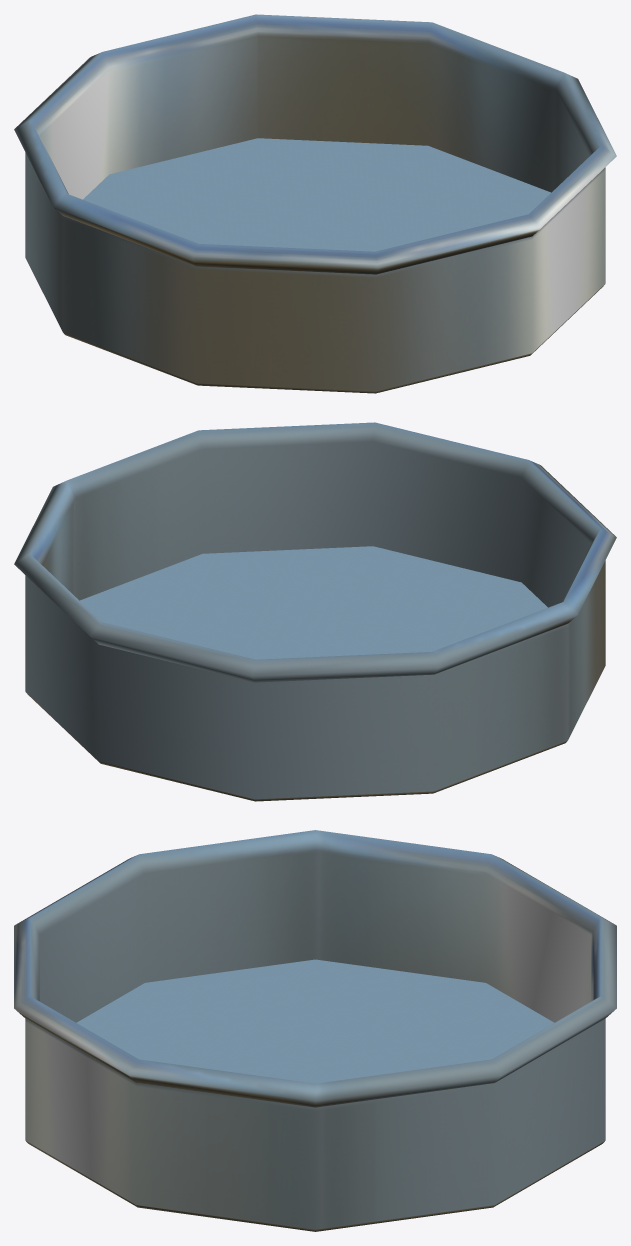
File: Cake_Pan_01.fbx
The picture shows the model from 3 angles, top to bottom: view 1: azimuth 30°, elevation 25°; view 2: azimuth 150°, elevation 25°; view 3: azimuth 270°, elevation 25°; orthographic projection. The views are drawn at different scales.
Visible parts, largest first — view 1: Cake_Pan_02; view 2: Cake_Pan_02; view 3: Cake_Pan_02.
Part boxes in pixels (bbox=[...]): Cake_Pan_02: bbox=[14, 14, 616, 393]; Cake_Pan_02: bbox=[14, 422, 616, 801]; Cake_Pan_02: bbox=[14, 830, 616, 1231].
Size of the model in its own units: 104 by 26.66 by 98.86.
